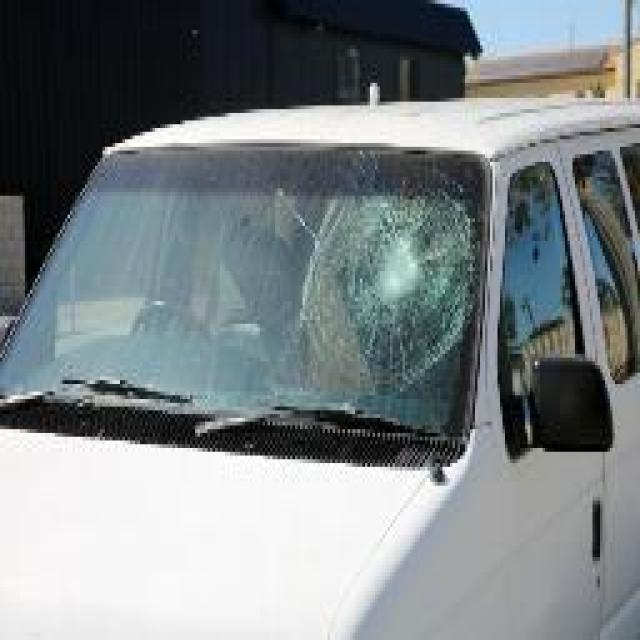Windshield: (248, 151, 470, 452)
